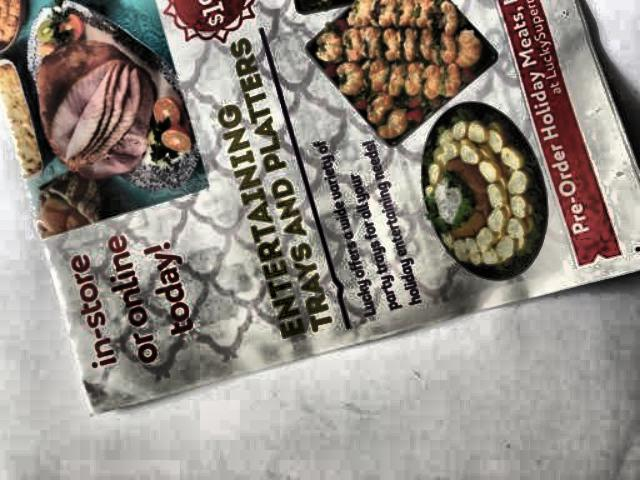Paper: (0, 0, 640, 416)
